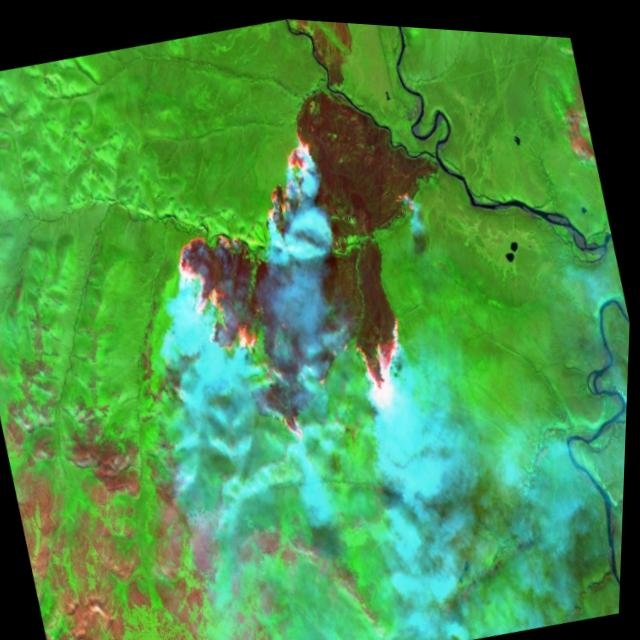fire: (133, 88, 472, 471)
